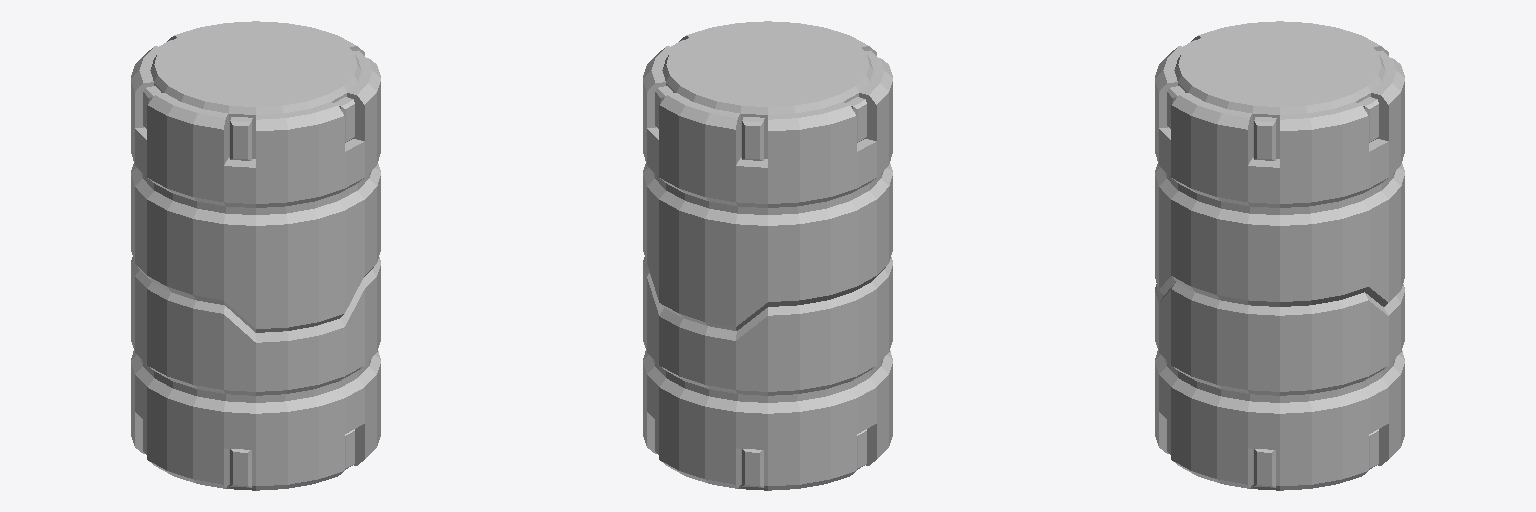
Rendered from Scifi_Barrel.obj.
The picture shows the model from 3 angles: view 1: azimuth 30°, elevation 25°; view 2: azimuth 150°, elevation 25°; view 3: azimuth 270°, elevation 25°; orthographic projection.
Parts seen in each view (by area): view 1: Scifi_Barrel_Mesh.024; view 2: Scifi_Barrel_Mesh.024; view 3: Scifi_Barrel_Mesh.024.
Part boxes in pixels (x1,y1,x2,y2): Scifi_Barrel_Mesh.024: (131, 21, 380, 490); Scifi_Barrel_Mesh.024: (643, 21, 892, 490); Scifi_Barrel_Mesh.024: (1155, 21, 1404, 490).
Bounding box in the file's own units: 0.7022 × 1.18 × 0.7022.